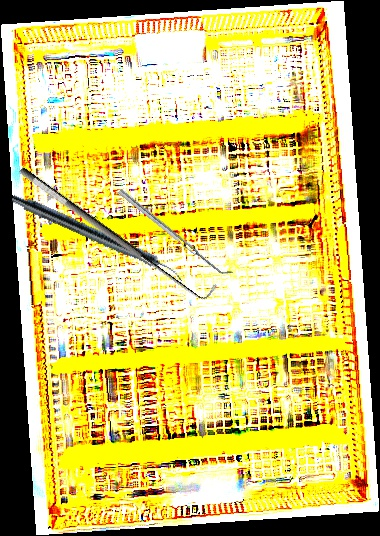Handpiece: (8, 191, 188, 284)
Hook Surgical: (16, 152, 220, 311)
Spatula Surgical: (118, 184, 233, 281)
